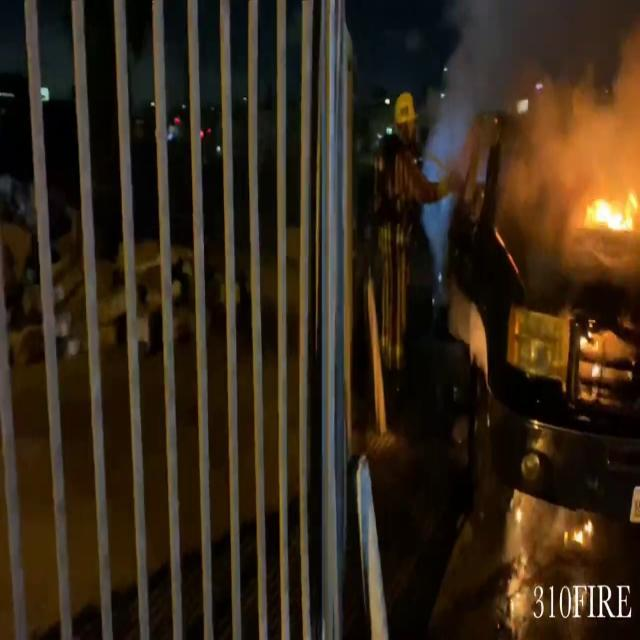Fire: (582, 184, 640, 236)
Smoke: (434, 1, 640, 228)
